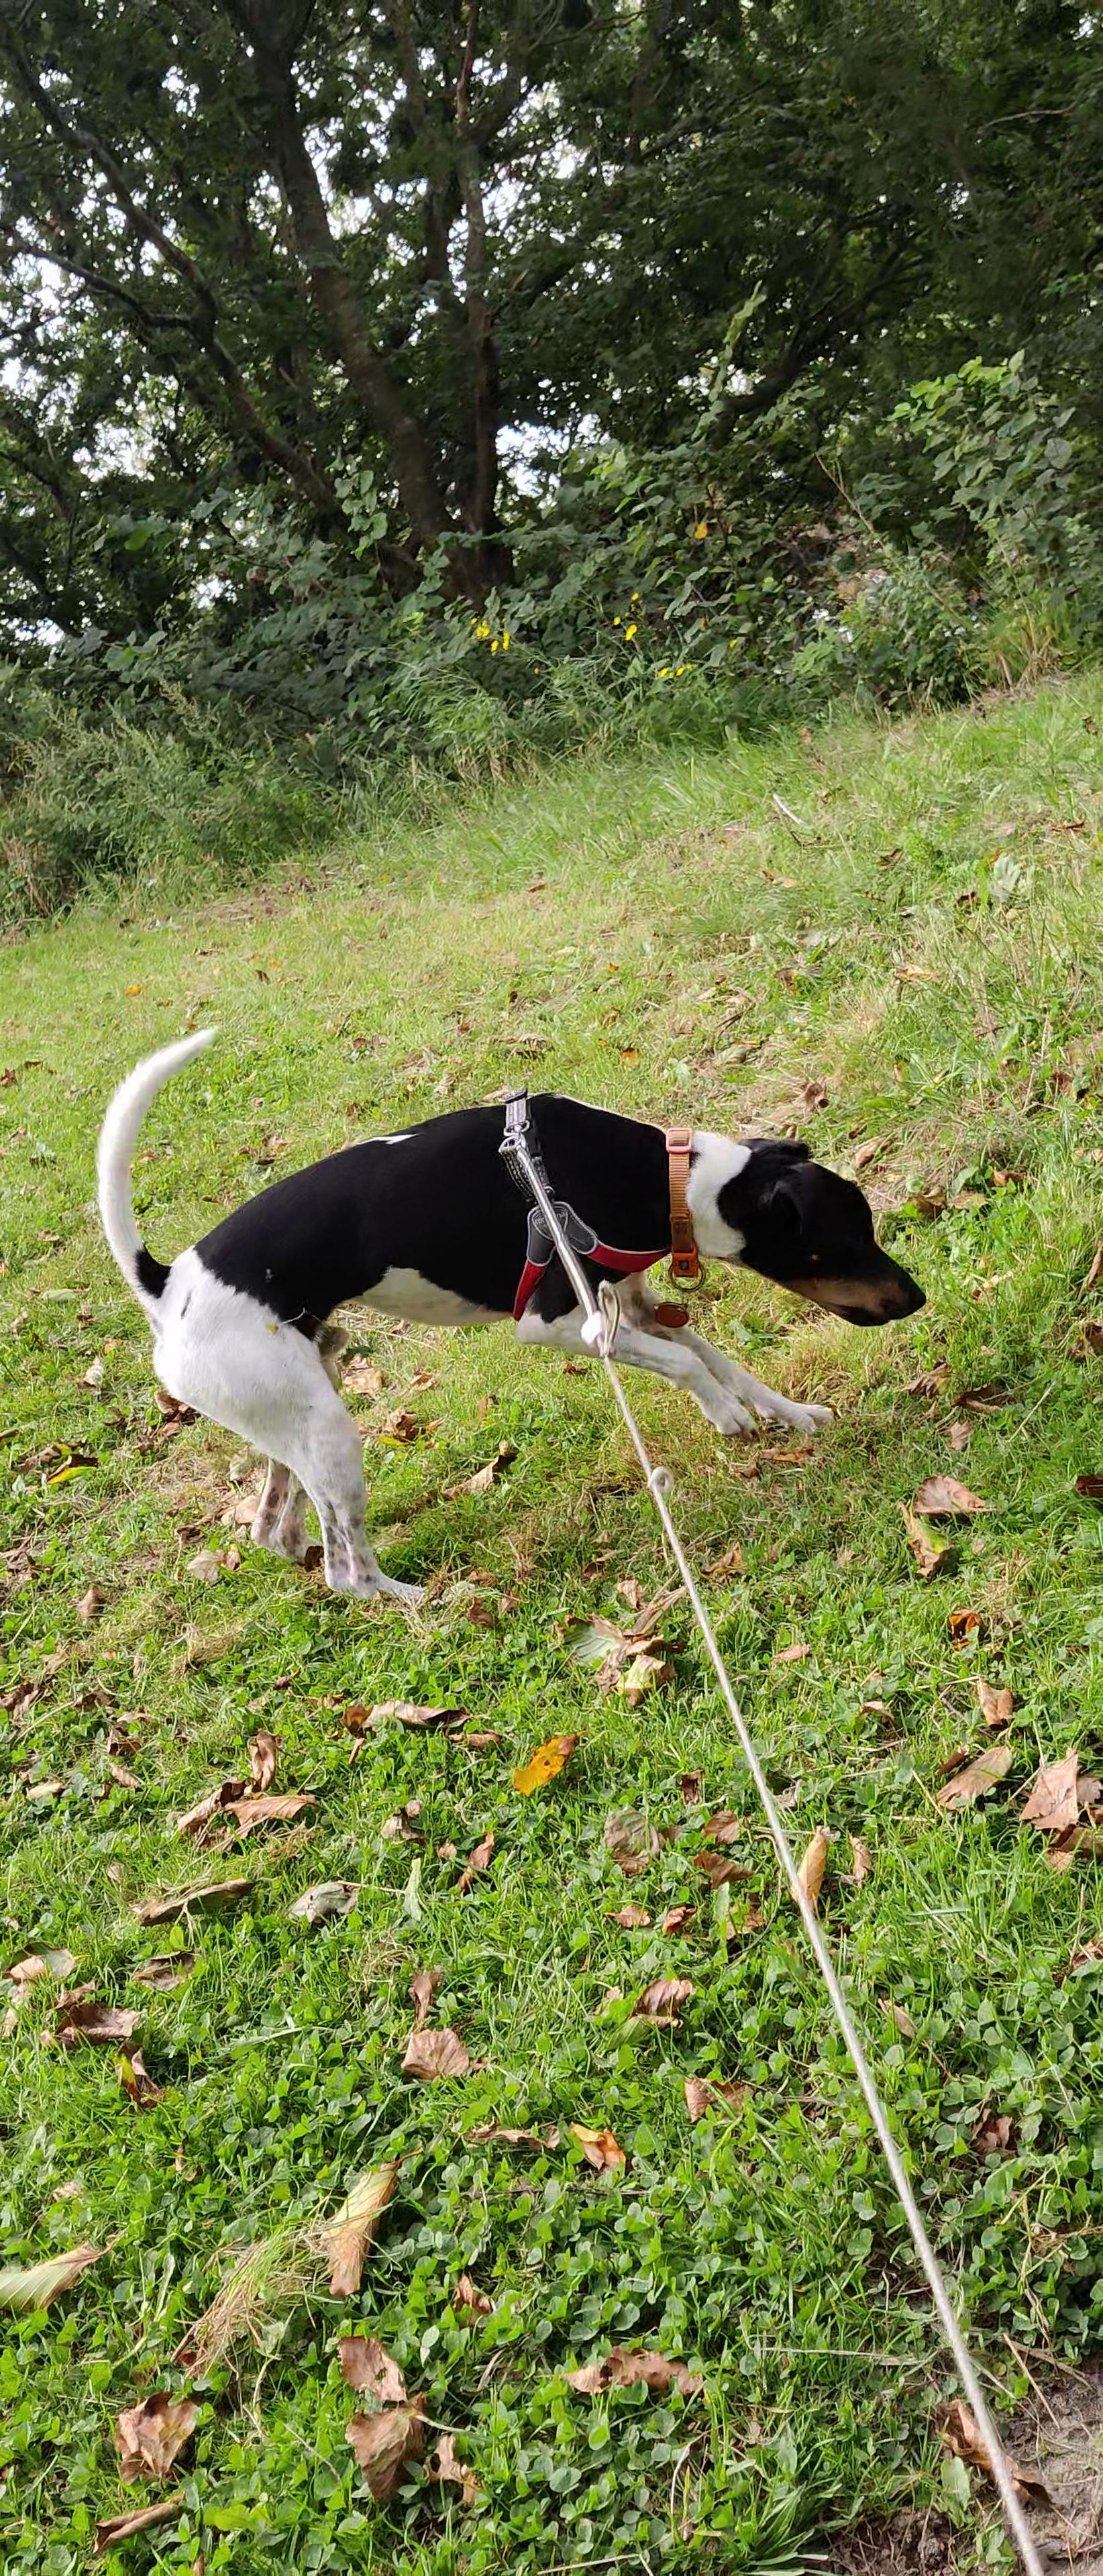Dog: (87, 1012, 937, 1612)
